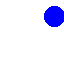circle: (44, 6, 64, 26)
